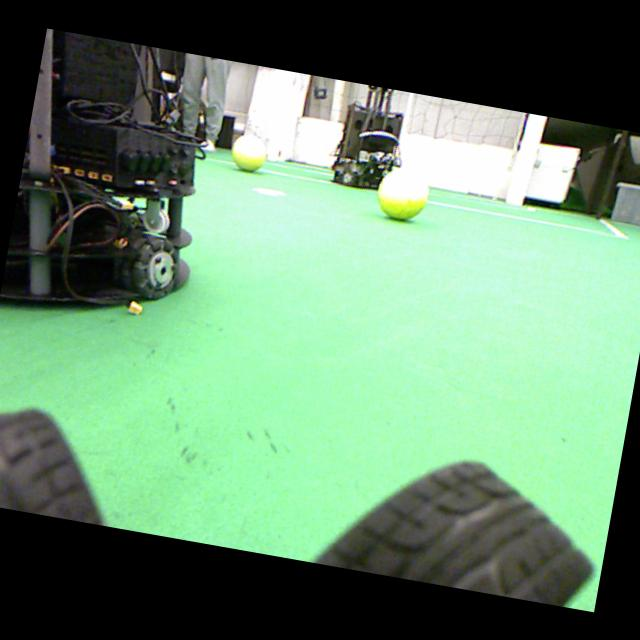ball: (377, 168, 429, 220), (232, 134, 266, 172)
goal: (508, 114, 545, 206)
robot: (0, 29, 196, 305), (329, 85, 404, 190)
